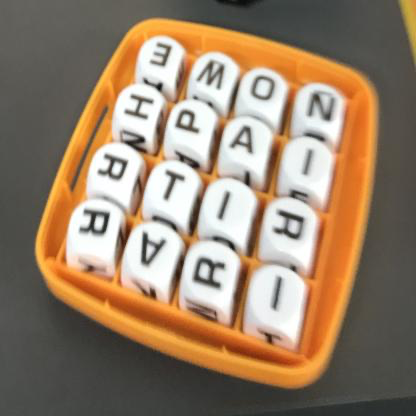a: (131, 224, 175, 279), (221, 120, 270, 166)
e: (144, 35, 180, 80)
h: (118, 83, 160, 132)
i: (254, 268, 302, 333), (206, 181, 253, 242), (286, 140, 329, 188)
n: (301, 88, 345, 132)
o: (243, 72, 282, 111)
p: (168, 103, 214, 149)
r: (187, 248, 232, 303), (266, 203, 313, 254), (72, 201, 119, 249), (95, 141, 136, 191)
t: (152, 164, 195, 211)
w: (196, 55, 233, 102)
